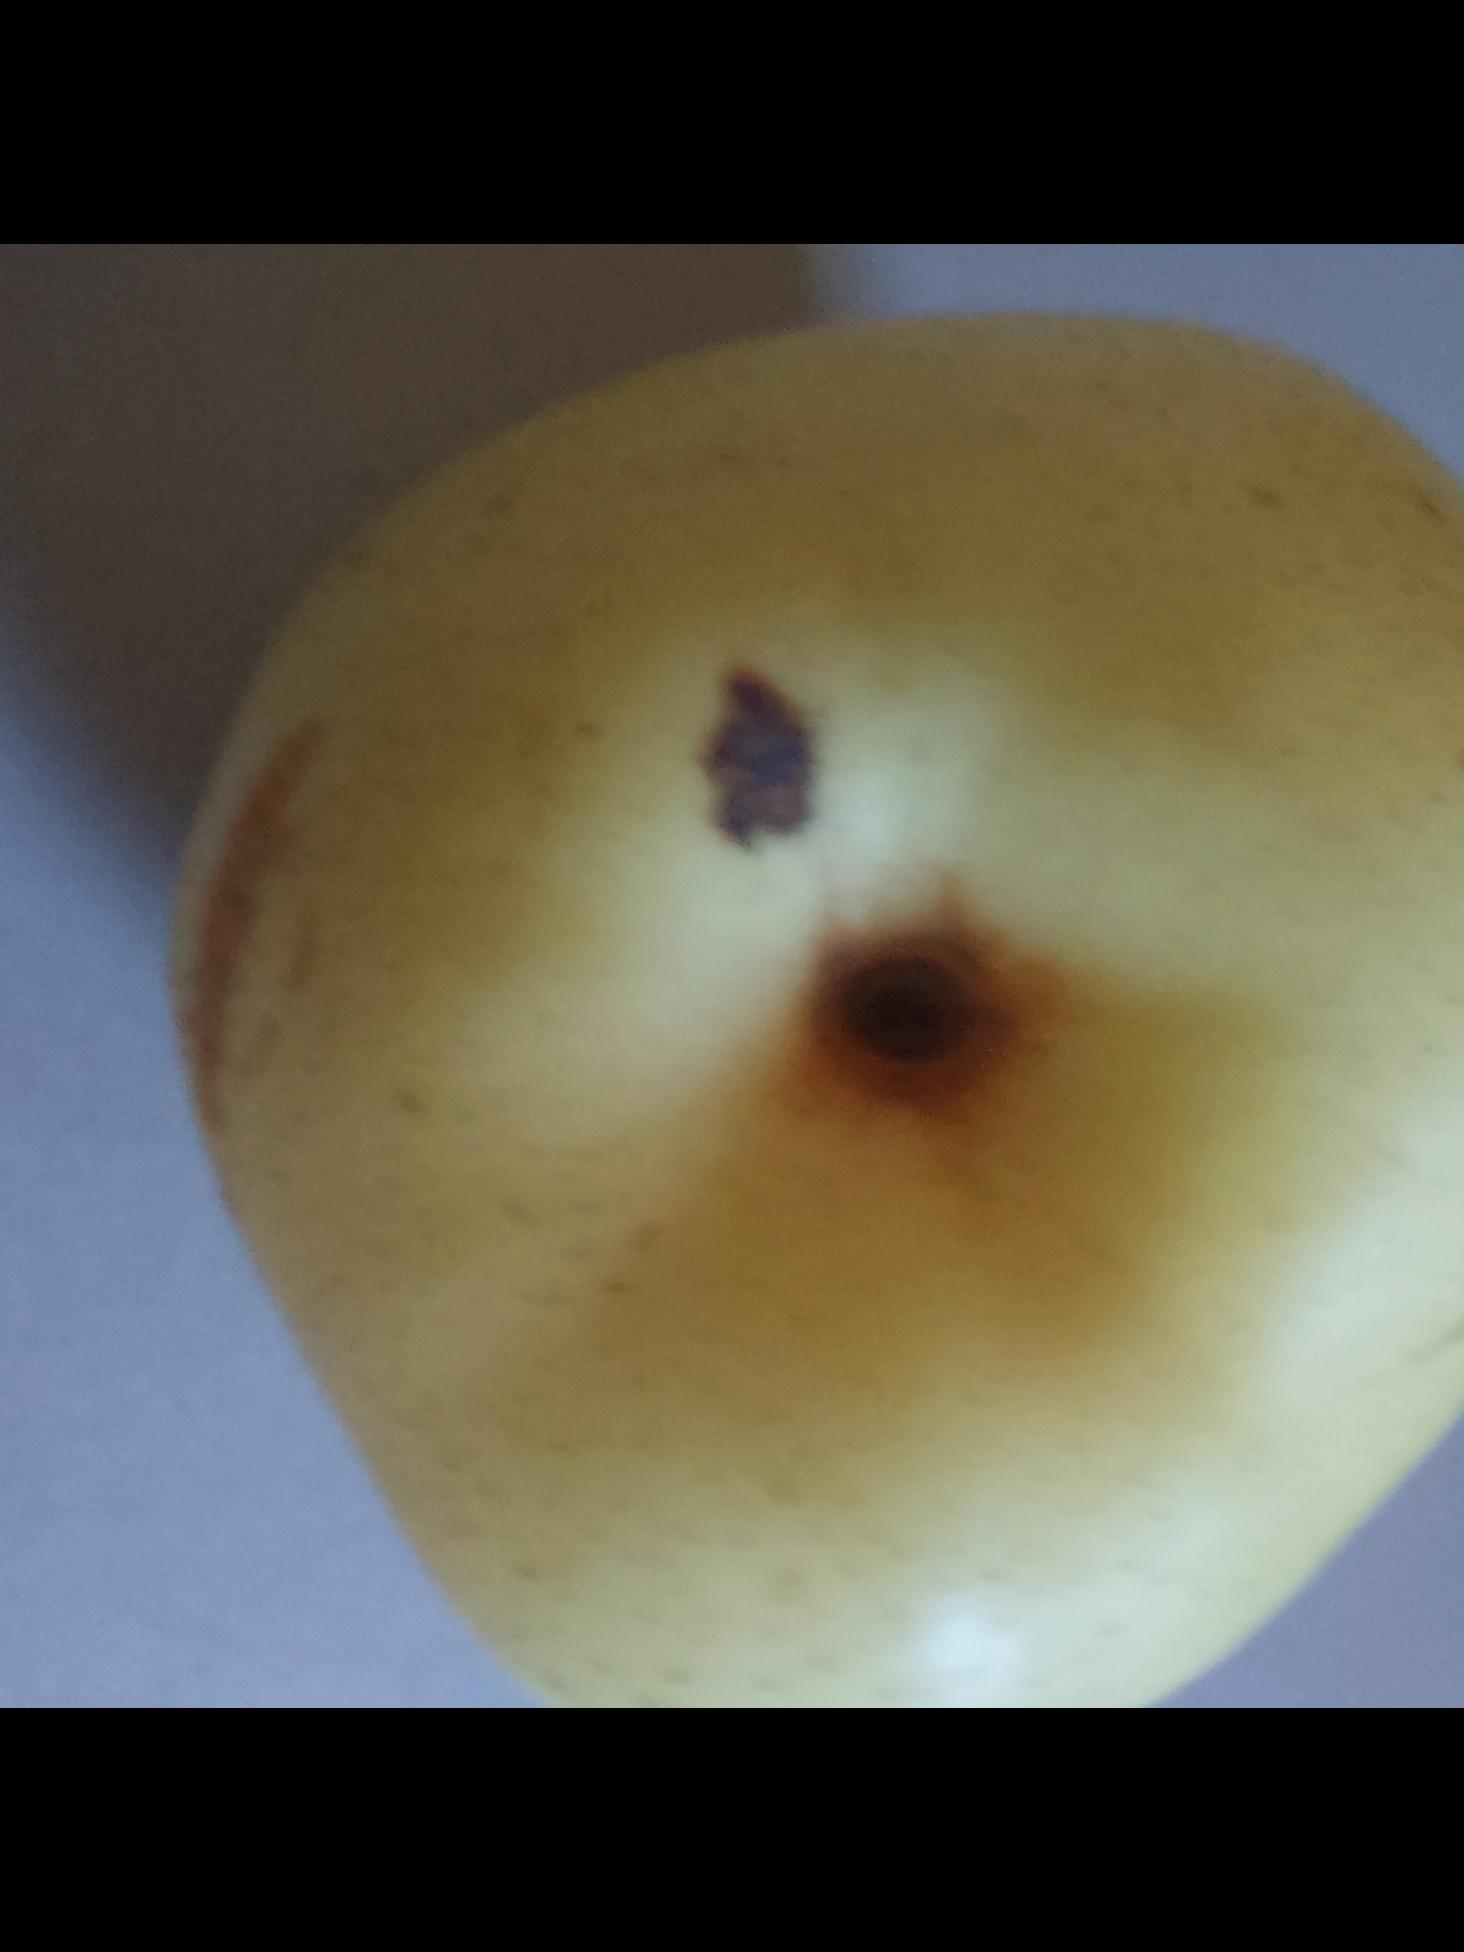Good Pear: (135, 314, 1464, 1708)
